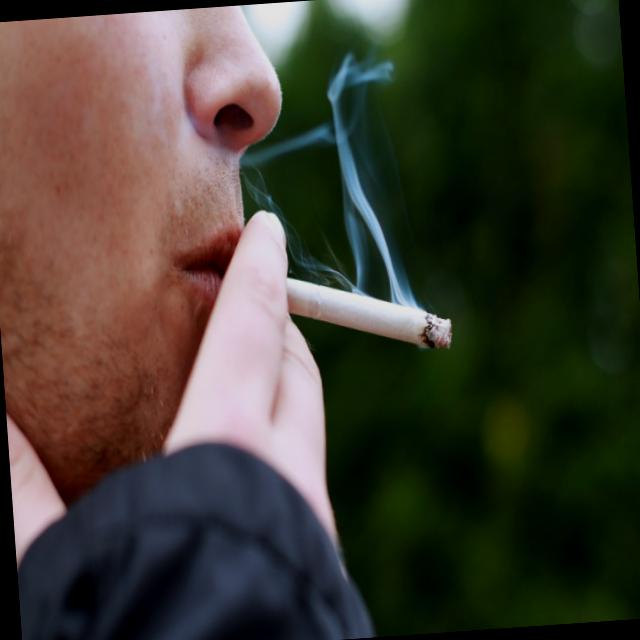cigarette: (305, 264, 468, 364)
